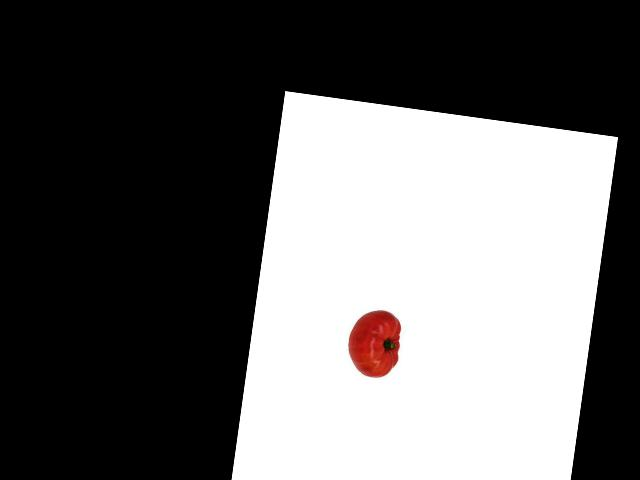tomato: (344, 307, 402, 380)
